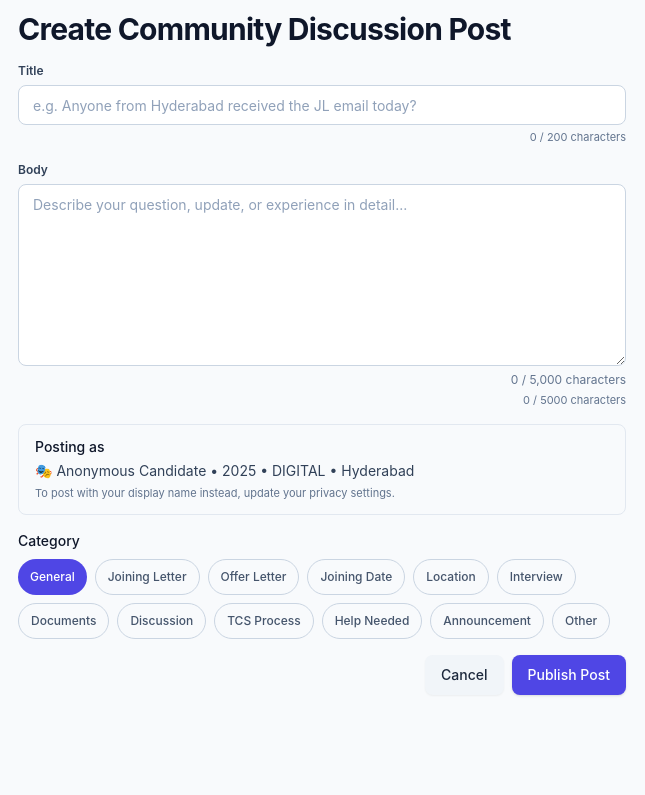
it: CreatePostPage › renders the scam rejection distinctly, without retry-with-same-text implications
Step 1. Type "Joining letter timeline" into the field labelled "Title" → (322, 105), box [18,85,626,125]
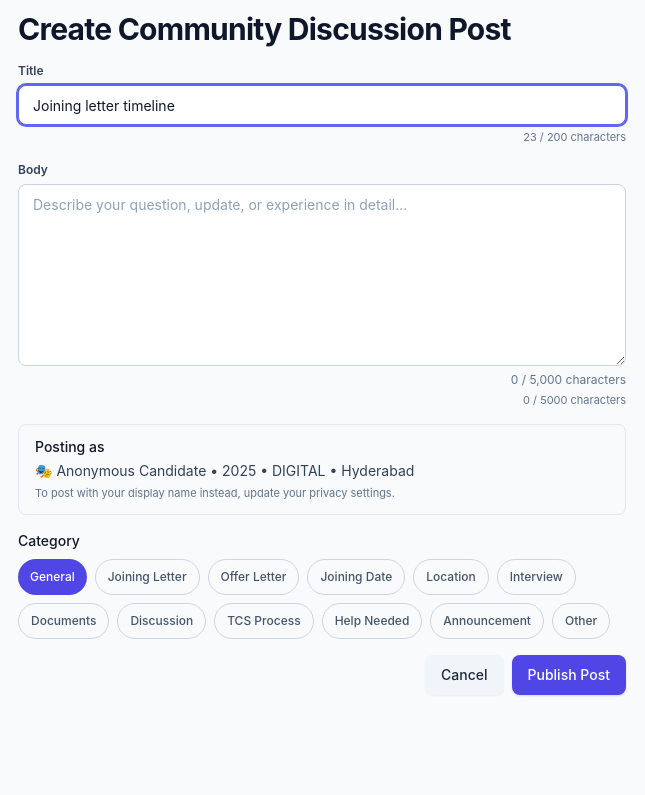
Step 2. Type "Anyone heard back about the August wave?" into the text box labelled "Body" → (322, 274), box [18,184,626,366]
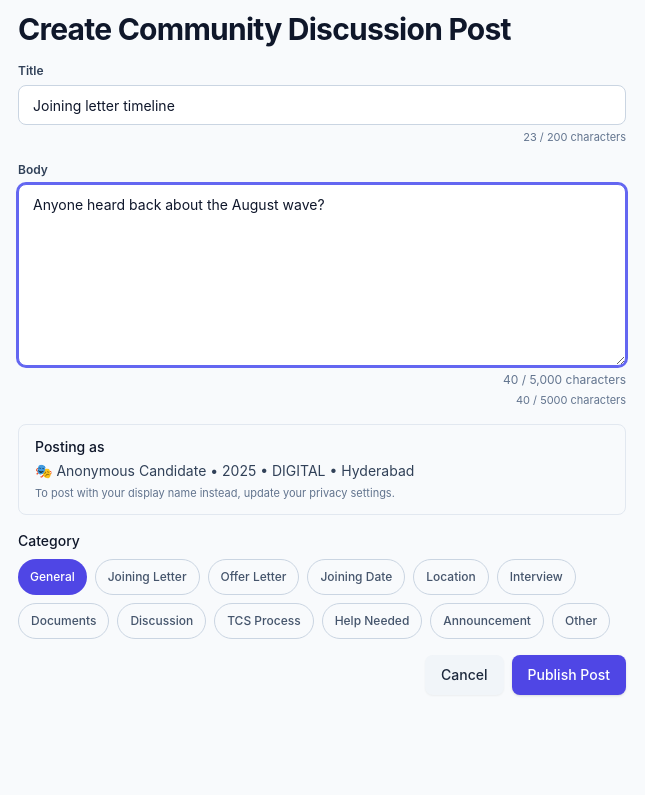
Step 3. Click the button "Publish Post" → (569, 674), box [512,654,626,694]
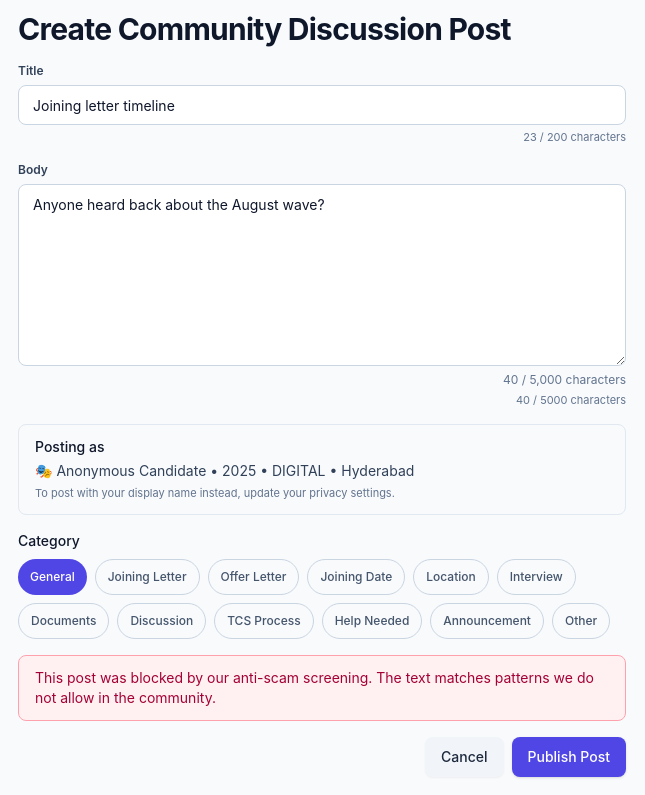
Check: the text "blocked by our anti-scam screening" is shown, box [35,668,594,706]
